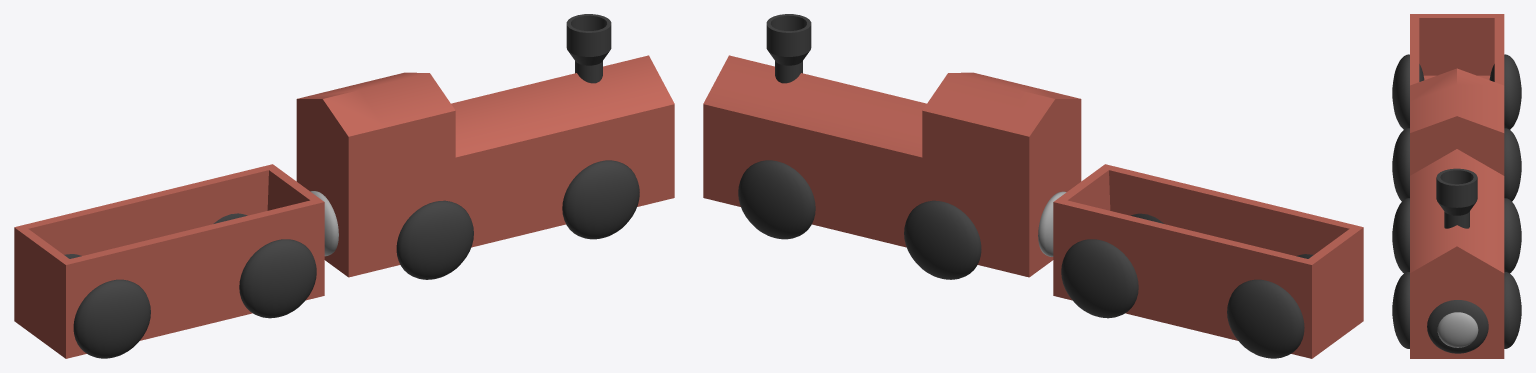
File: Train.fbx
3 views of the same model, side by side, from view 1: azimuth 30°, elevation 25°; view 2: azimuth 150°, elevation 25°; view 3: azimuth 270°, elevation 25° (orthographic). The views are drawn at different scales.
Parts seen in each view (by area): view 1: pSphere23; view 2: pSphere23; view 3: pSphere23.
Part boxes in pixels (box(x1,y1,x2,y2)): pSphere23: box(14, 14, 674, 358); pSphere23: box(703, 14, 1363, 358); pSphere23: box(1392, 14, 1521, 358).
Size of the model in its own units: 6.95 by 2.04 by 1.37.
